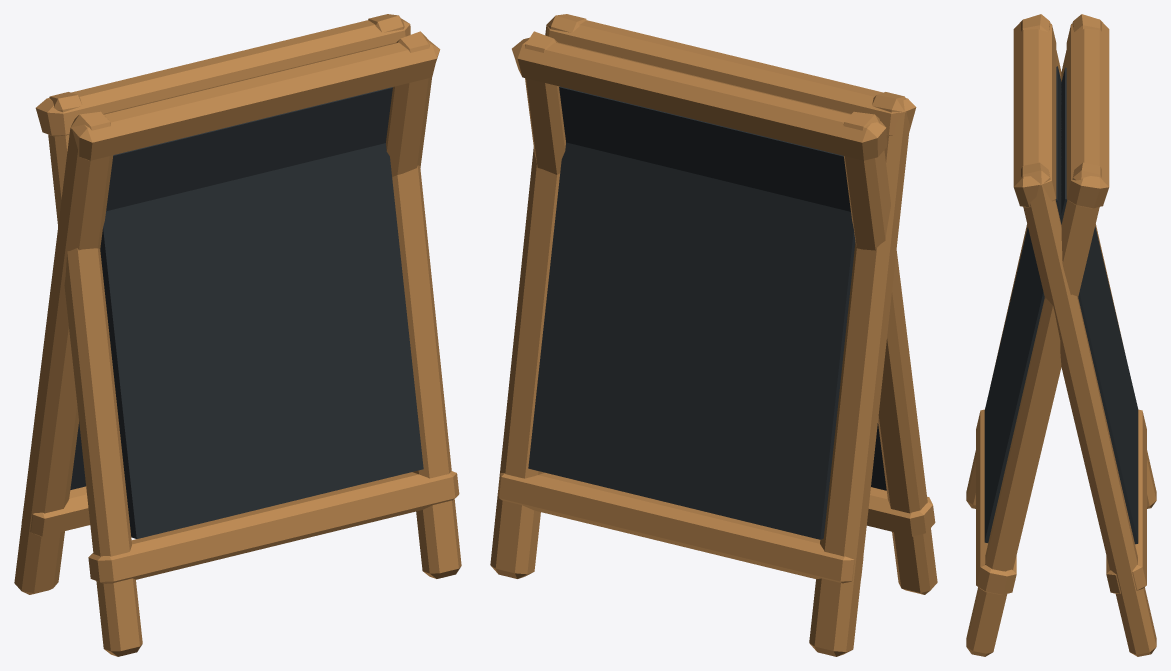
The model's file is arcade_chalkboard.glb.
3 renders of one model, left to right at view 1: azimuth 30°, elevation 25°; view 2: azimuth 150°, elevation 25°; view 3: azimuth 270°, elevation 25°, orthographic. The views are drawn at different scales.
Parts seen in each view (by area): view 1: arcade_chalkboard; view 2: arcade_chalkboard; view 3: arcade_chalkboard.
Part boxes in pixels (<box>): arcade_chalkboard: <box>14,14,461,656</box>; arcade_chalkboard: <box>490,14,937,656</box>; arcade_chalkboard: <box>966,14,1156,656</box>.
Size of the model in its own units: 0.574 by 0.7771 by 0.275.
